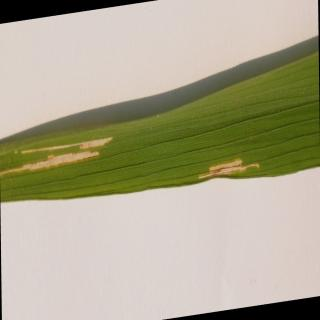Hawar-Daun: (0, 137, 114, 176), (199, 155, 259, 176)
